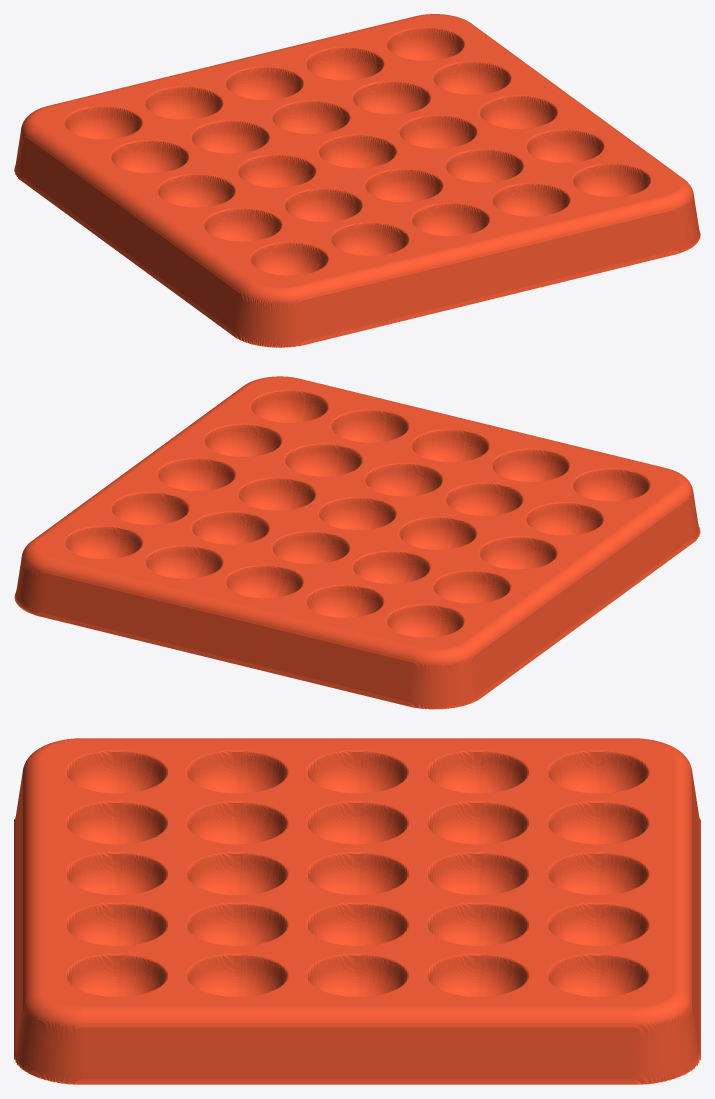
Rendered from mold.glb.
3 views of the same model, one above another, from view 1: azimuth 30°, elevation 25°; view 2: azimuth 150°, elevation 25°; view 3: azimuth 270°, elevation 25° (orthographic). The views are drawn at different scales.
Visible parts, largest first — view 1: geometry_0; view 2: geometry_0; view 3: geometry_0.
Part boxes in pixels (x1,y1,x2,y2): geometry_0: [14, 14, 700, 347]; geometry_0: [14, 376, 700, 709]; geometry_0: [14, 738, 700, 1084].
Size of the model in its own units: 0.0902 by 0.00958 by 0.0902.
